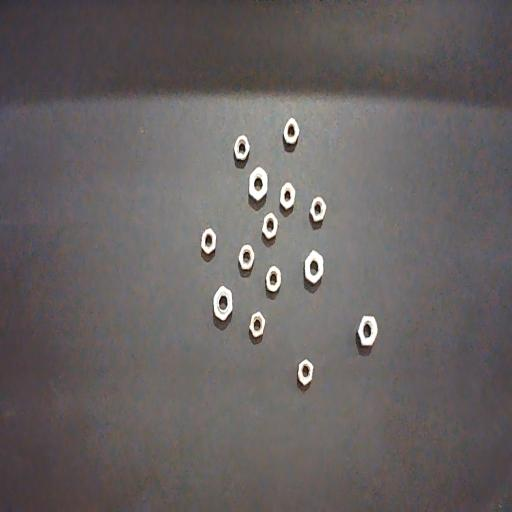nut: (304, 250, 324, 287), (213, 286, 233, 322), (248, 166, 268, 201), (357, 317, 378, 349), (279, 181, 295, 211), (309, 195, 326, 223), (265, 266, 282, 294), (249, 312, 265, 341), (262, 212, 278, 240), (239, 244, 255, 272), (298, 359, 314, 387), (283, 118, 299, 145), (234, 135, 250, 162), (201, 228, 217, 255)
